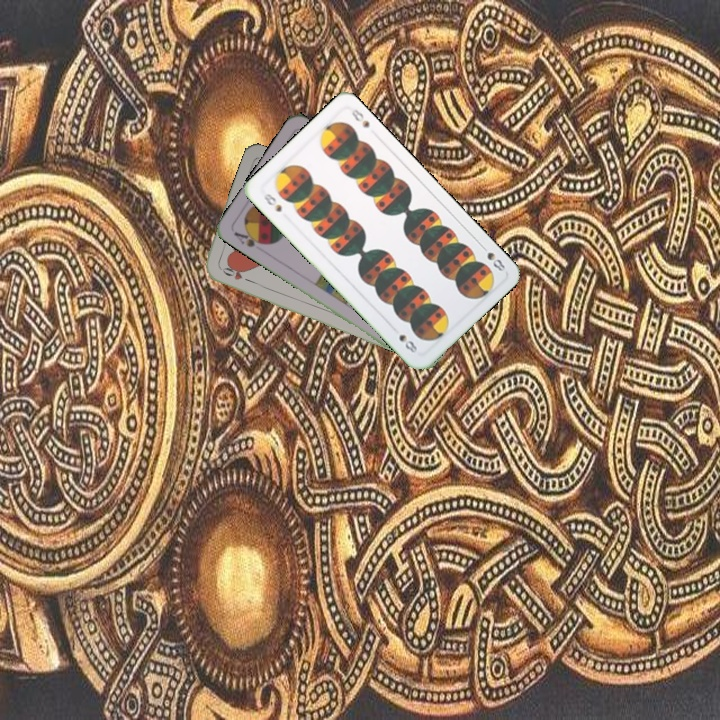HO: (216, 263, 255, 285)
S8: (476, 240, 508, 274), (259, 189, 284, 215)
SA: (229, 226, 269, 250)
